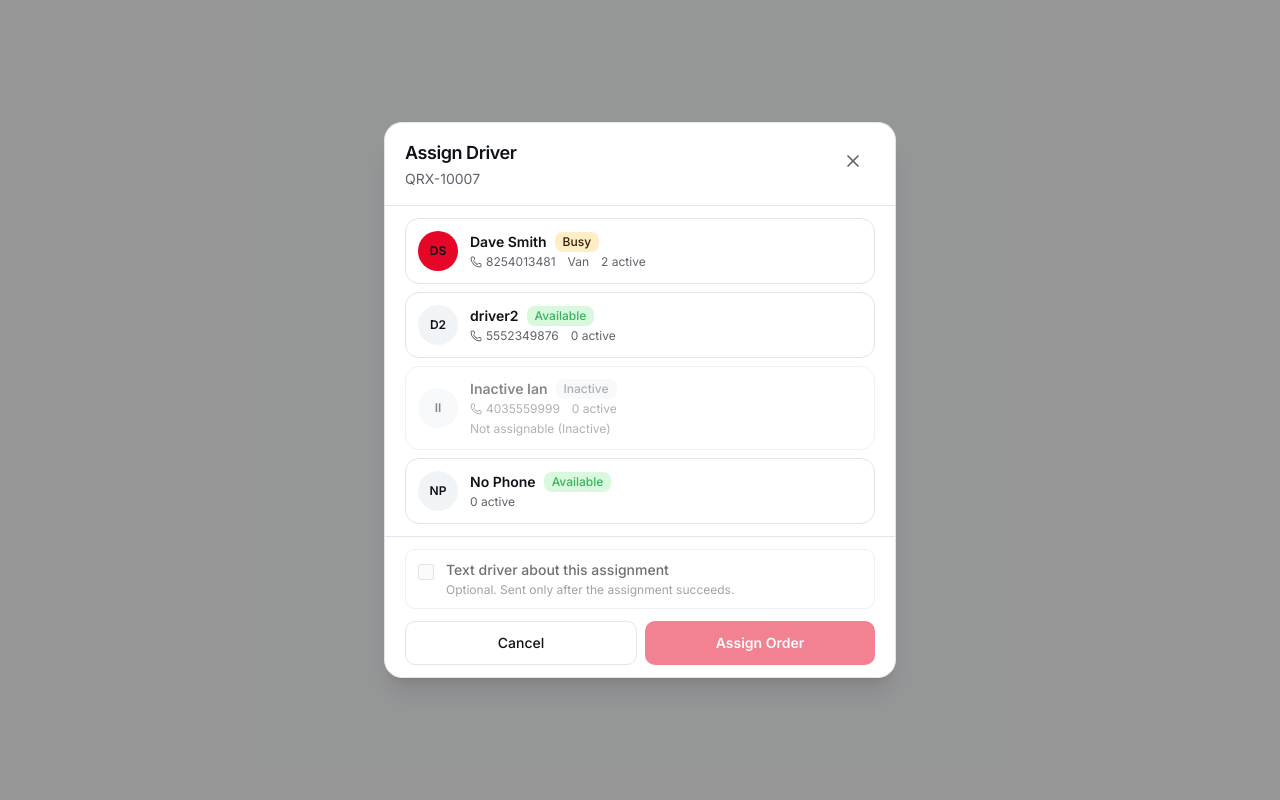
Test: AssignDriverDialog › disables SMS checkbox when driver has no valid phone
Click the option "NP No Phone Available 0 active": point(438, 491) x1=405 y1=458 x2=875 y2=524
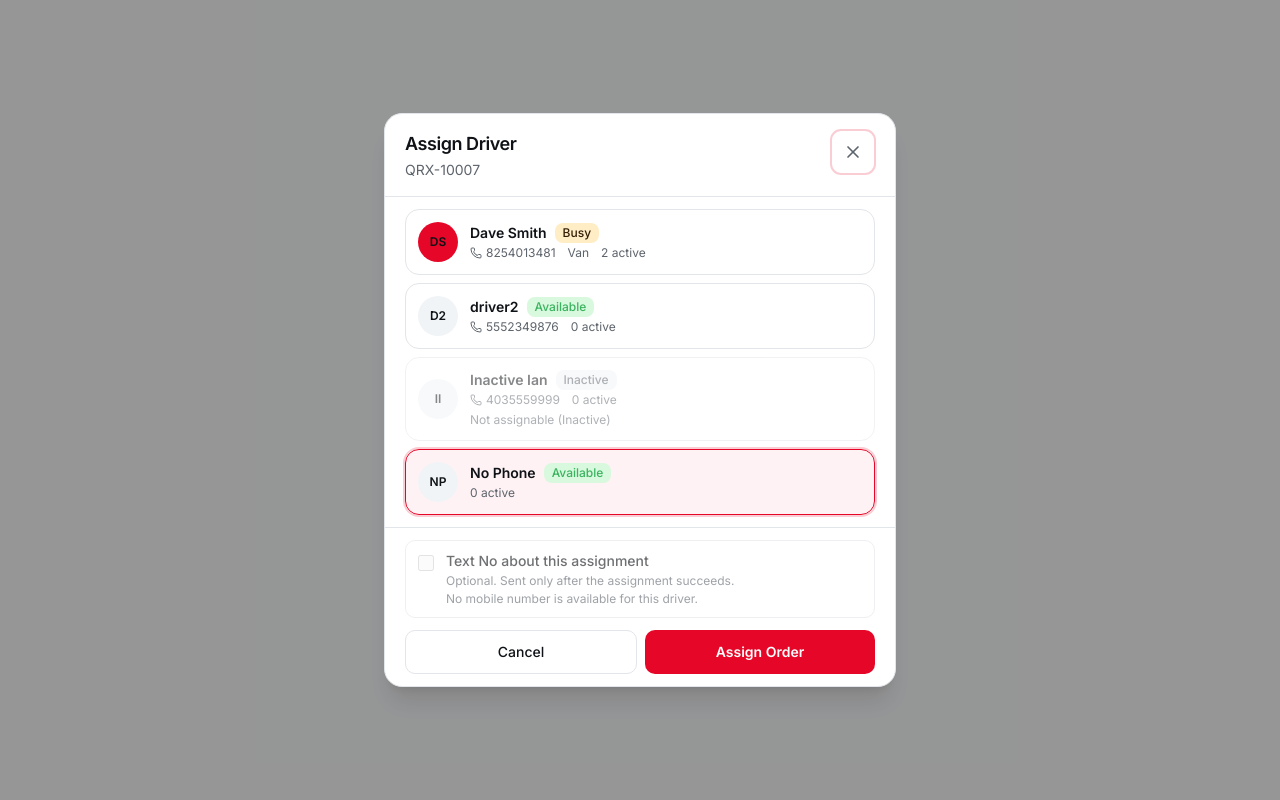
Expected: the checkbox is disabled, x1=418 y1=555 x2=434 y2=571
Expected: the text "No mobile number is available for this driver." is shown, x1=446 y1=591 x2=734 y2=607
